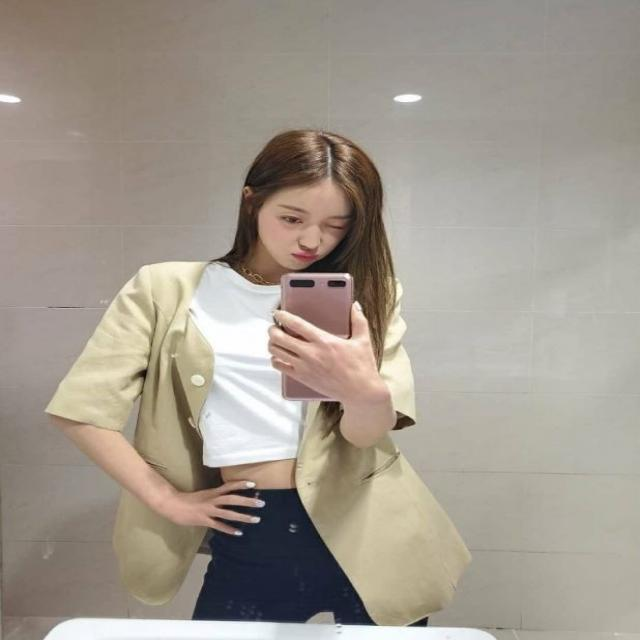Mobile: (277, 265, 361, 406)
